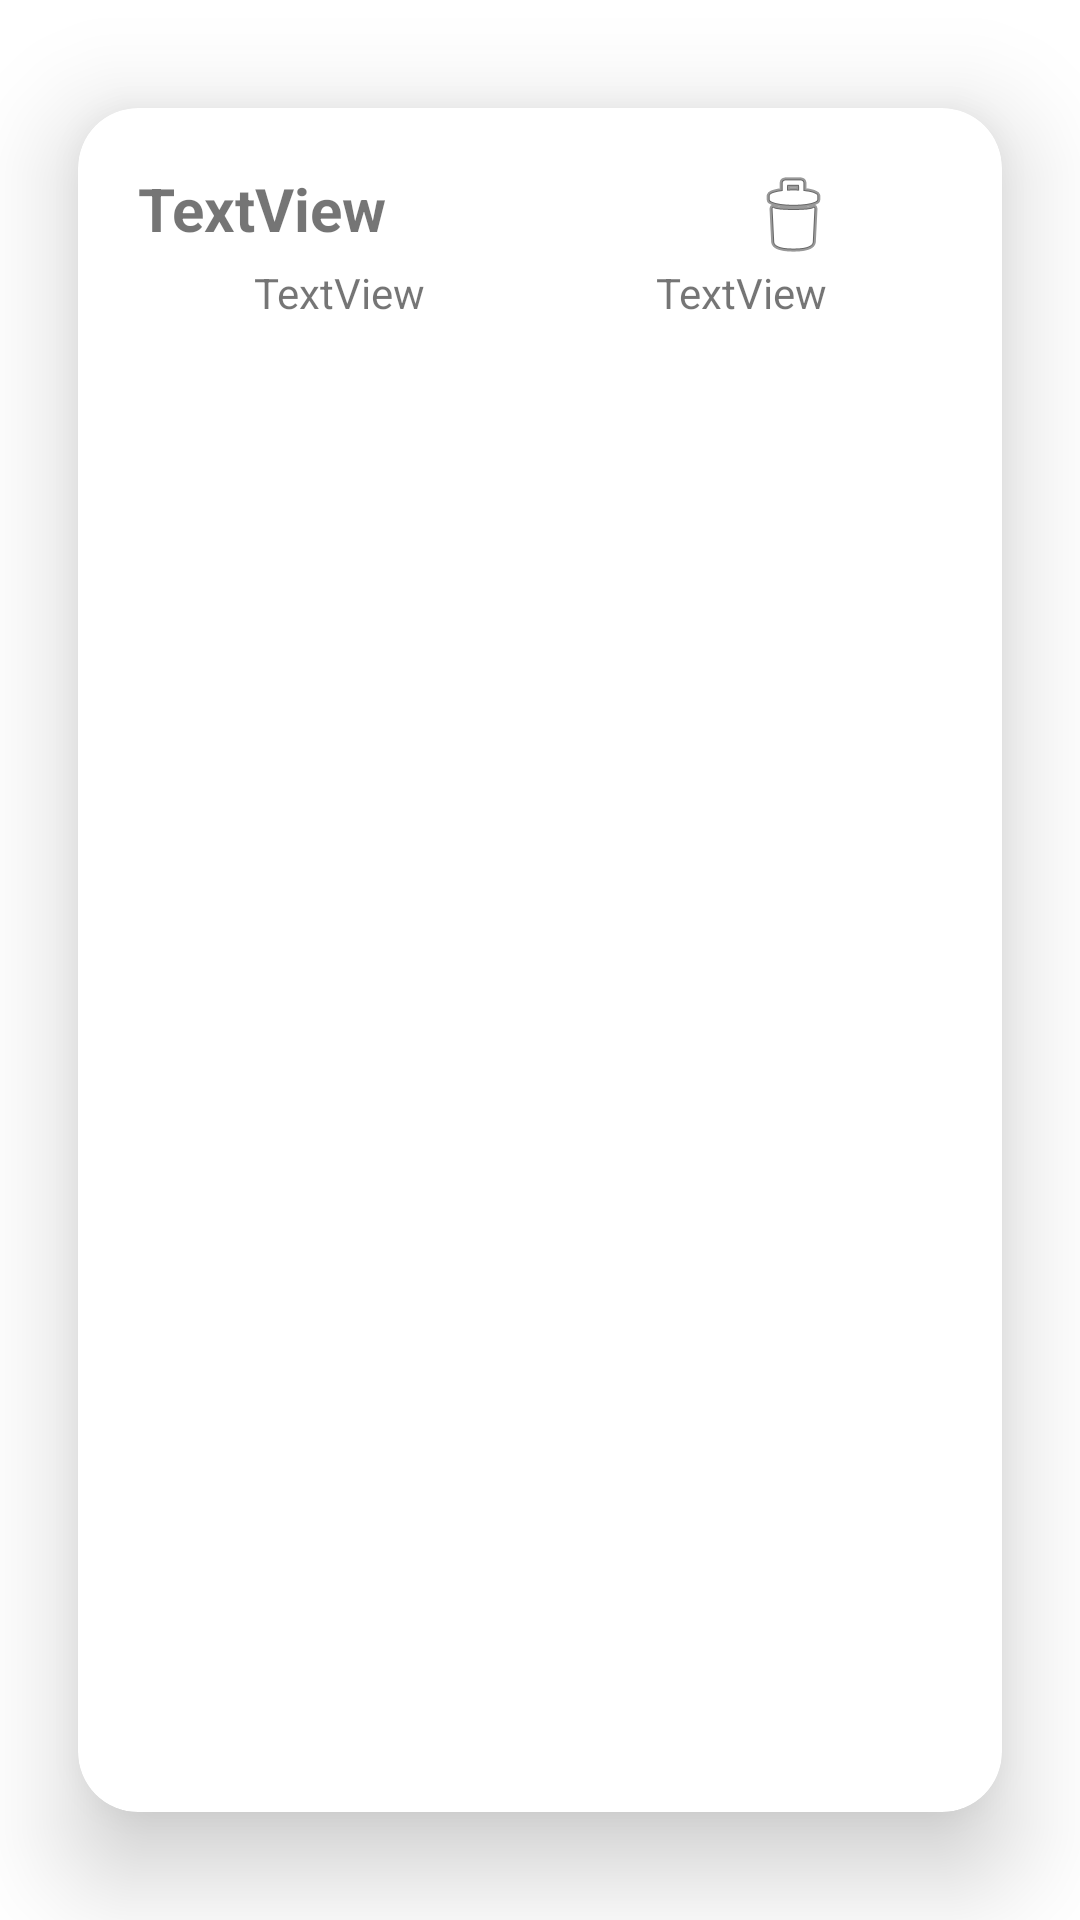

Named icons in this screenshot (1080x1920) and their centers, (x=x, y=y):
delete: (x=793, y=214)
